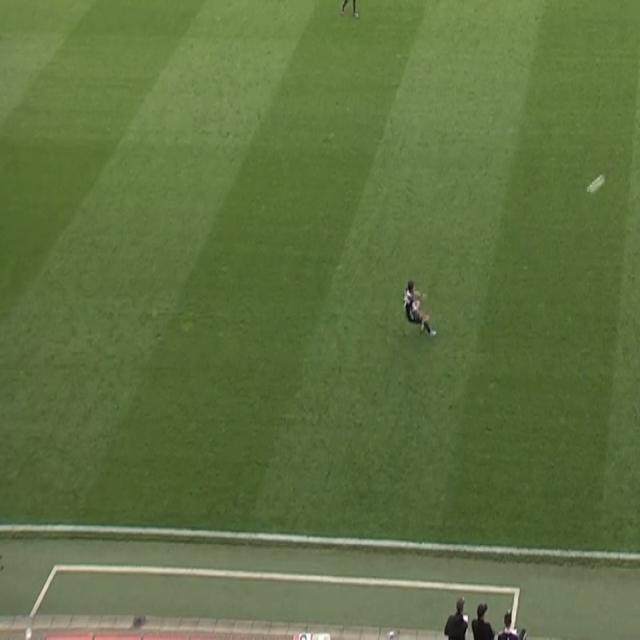ball: (586, 173, 606, 197)
